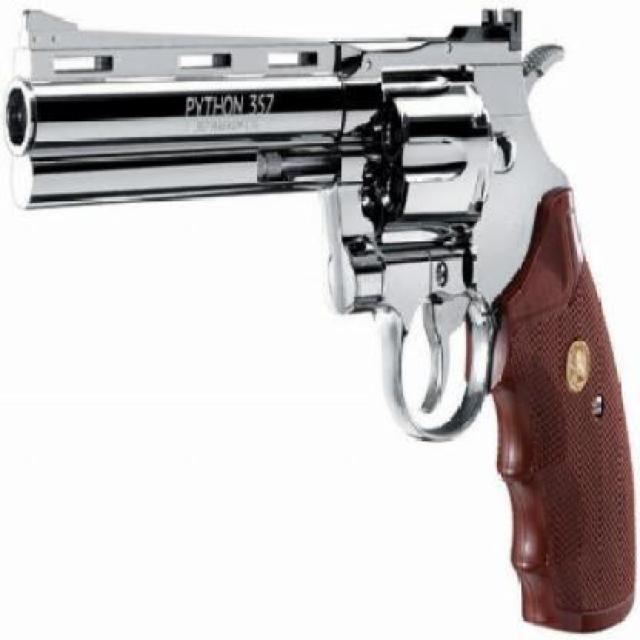gun: (6, 4, 640, 638)
